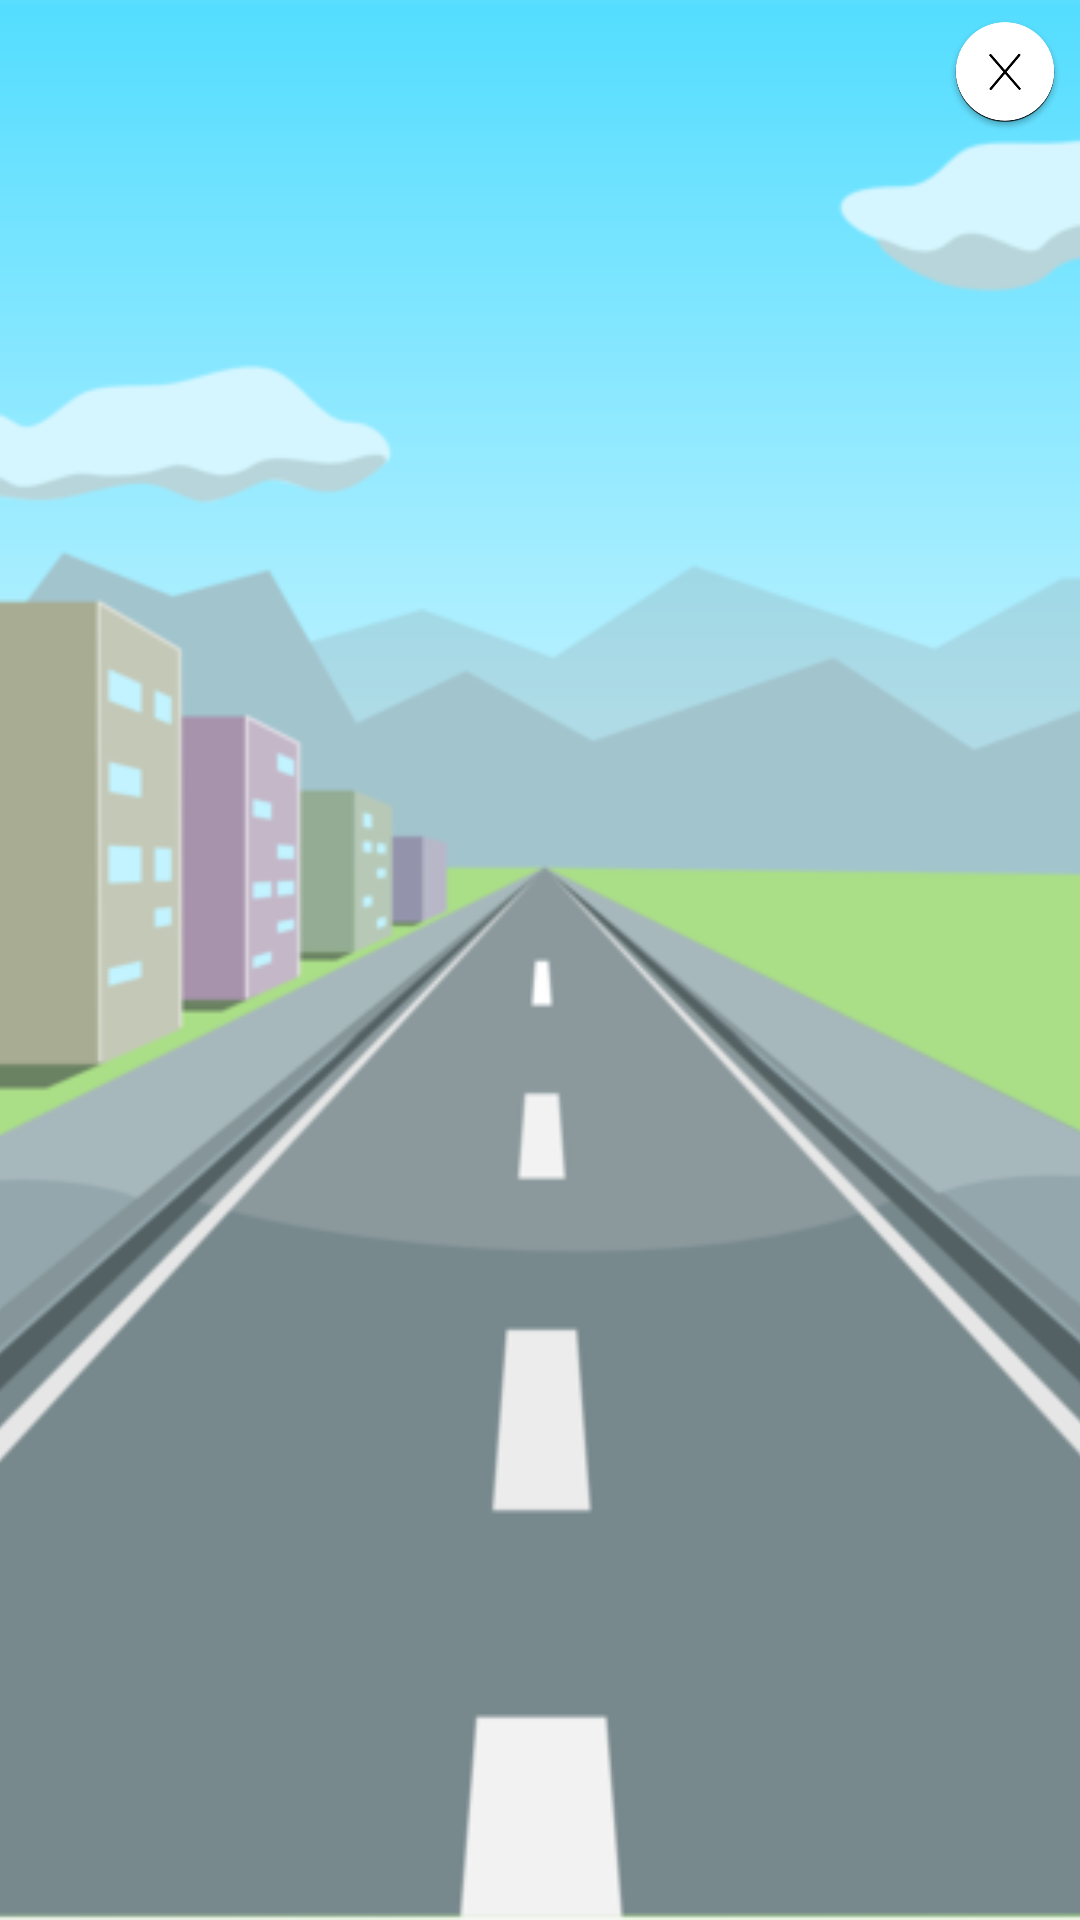

Icon click points for this 1080px x 1920px phone screenshot, format (x,y):
cross: (1004,74)
